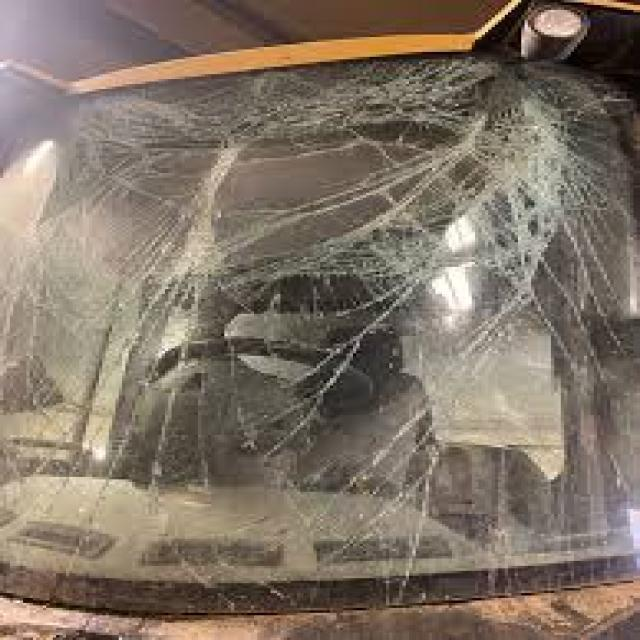damaged-windscreen: (6, 47, 640, 613)
